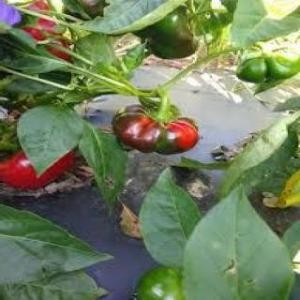bell_pepper: (107, 102, 204, 154)
